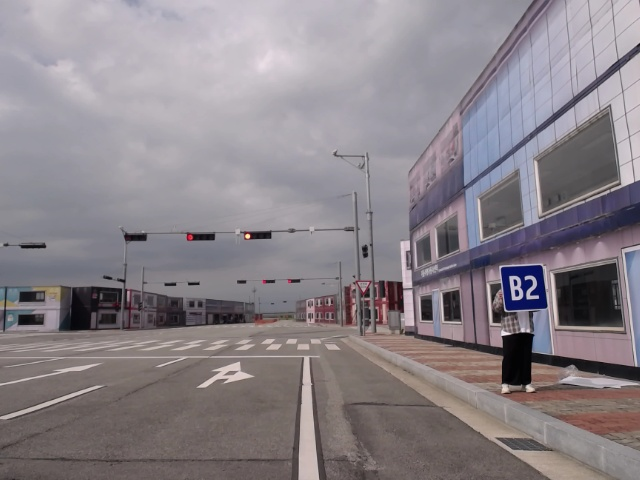delivery_b2: (498, 262, 551, 313)
red_4: (184, 230, 217, 244), (242, 229, 272, 242), (262, 278, 278, 285), (286, 278, 302, 284)
